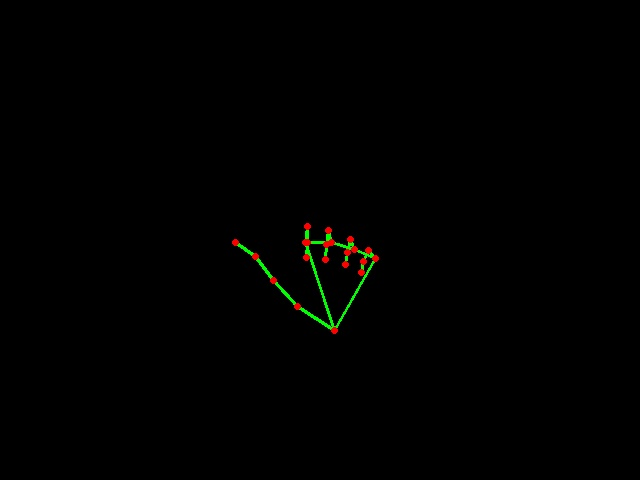right: (202, 206, 387, 347)
